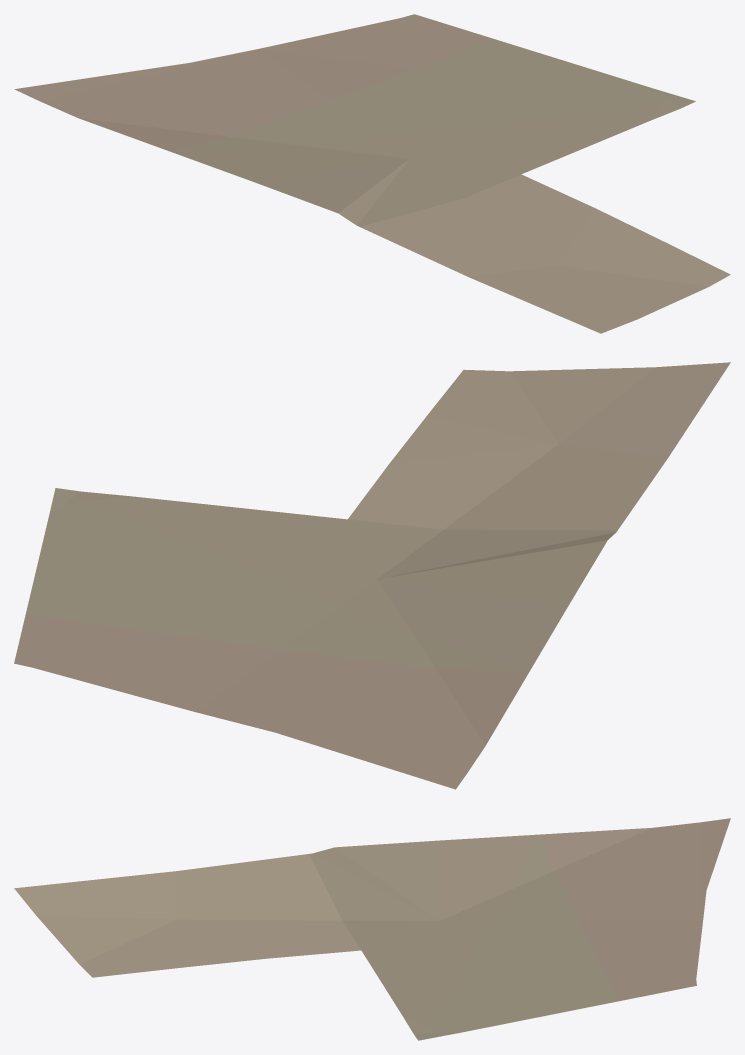
The model's file is farm_10_8_soil.glb.
3 views of the same model, one above another, from view 1: azimuth 30°, elevation 25°; view 2: azimuth 150°, elevation 25°; view 3: azimuth 270°, elevation 25° (orthographic). The views are drawn at different scales.
Visible parts, largest first — view 1: geometry_0; view 2: geometry_0; view 3: geometry_0.
Part boxes in pixels (x1,y1,x2,y2): geometry_0: (14, 14, 730, 333); geometry_0: (14, 362, 730, 789); geometry_0: (14, 818, 730, 1040).
Size of the model in its own units: 157 by 6.87 by 219.
